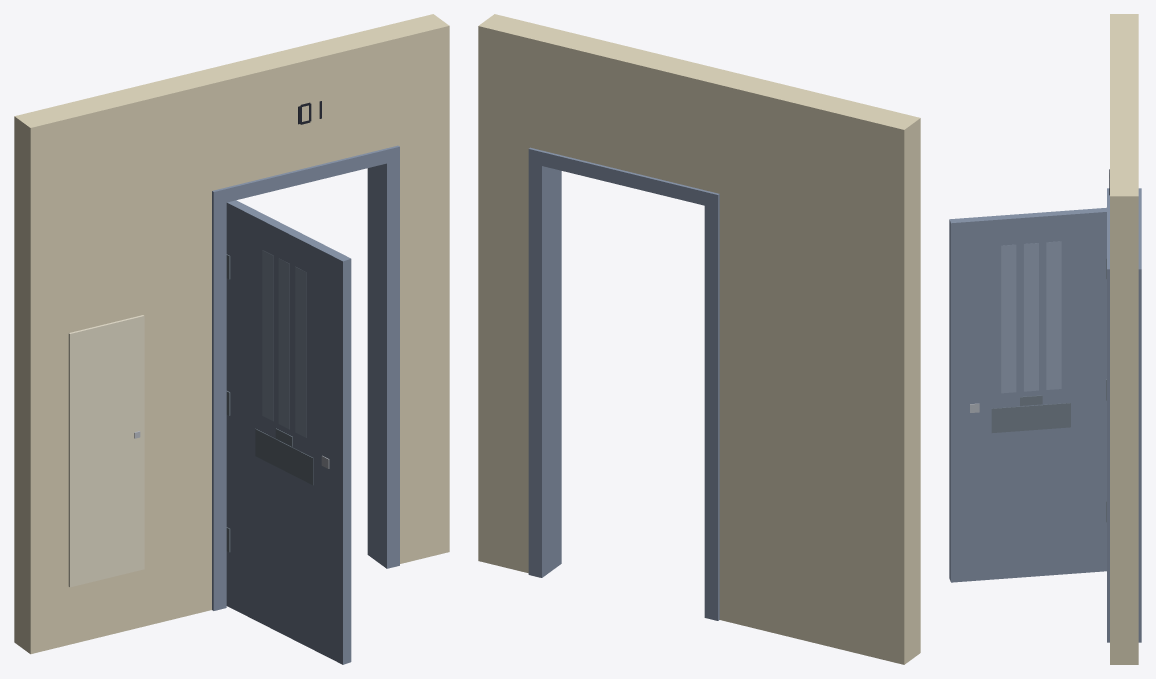
The model's file is str-011.glb.
The picture shows the model from 3 angles, left to right: view 1: azimuth 30°, elevation 25°; view 2: azimuth 150°, elevation 25°; view 3: azimuth 270°, elevation 25°; orthographic projection. The views are drawn at different scales.
Visible parts, largest first — view 1: block_wall, cell_door, access_panel, glass_clear, prison_steel; view 2: block_wall, cell_door; view 3: cell_door, block_wall, glass_clear, prison_steel.
Part boxes in pixels (x1,y1,x2,y2): block_wall: [14, 14, 449, 654]; cell_door: [212, 145, 399, 664]; access_panel: [68, 315, 144, 587]; glass_clear: [263, 251, 305, 436]; prison_steel: [226, 254, 313, 552]; block_wall: [478, 14, 920, 664]; cell_door: [528, 147, 719, 620]; cell_door: [949, 188, 1141, 642]; block_wall: [1110, 14, 1138, 664]; glass_clear: [1001, 242, 1060, 392]; prison_steel: [991, 258, 1106, 522].
Bounding box in the file's own units: 2.25 × 2.7 × 1.
